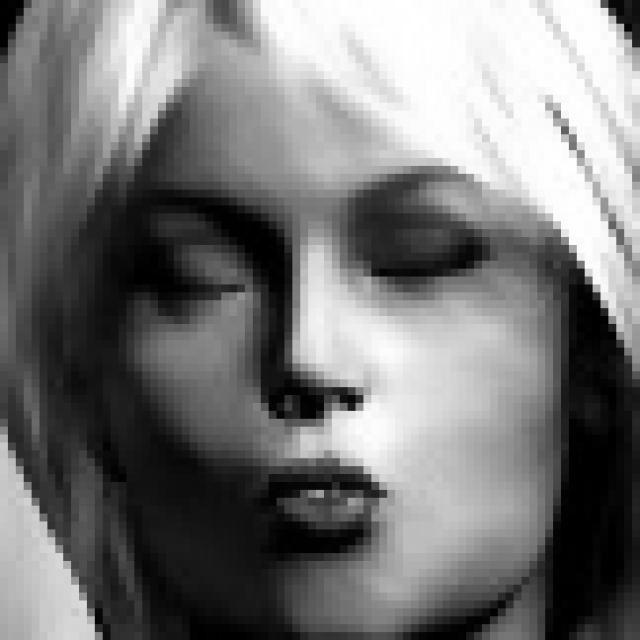real: (20, 0, 584, 640), (122, 209, 506, 308)
